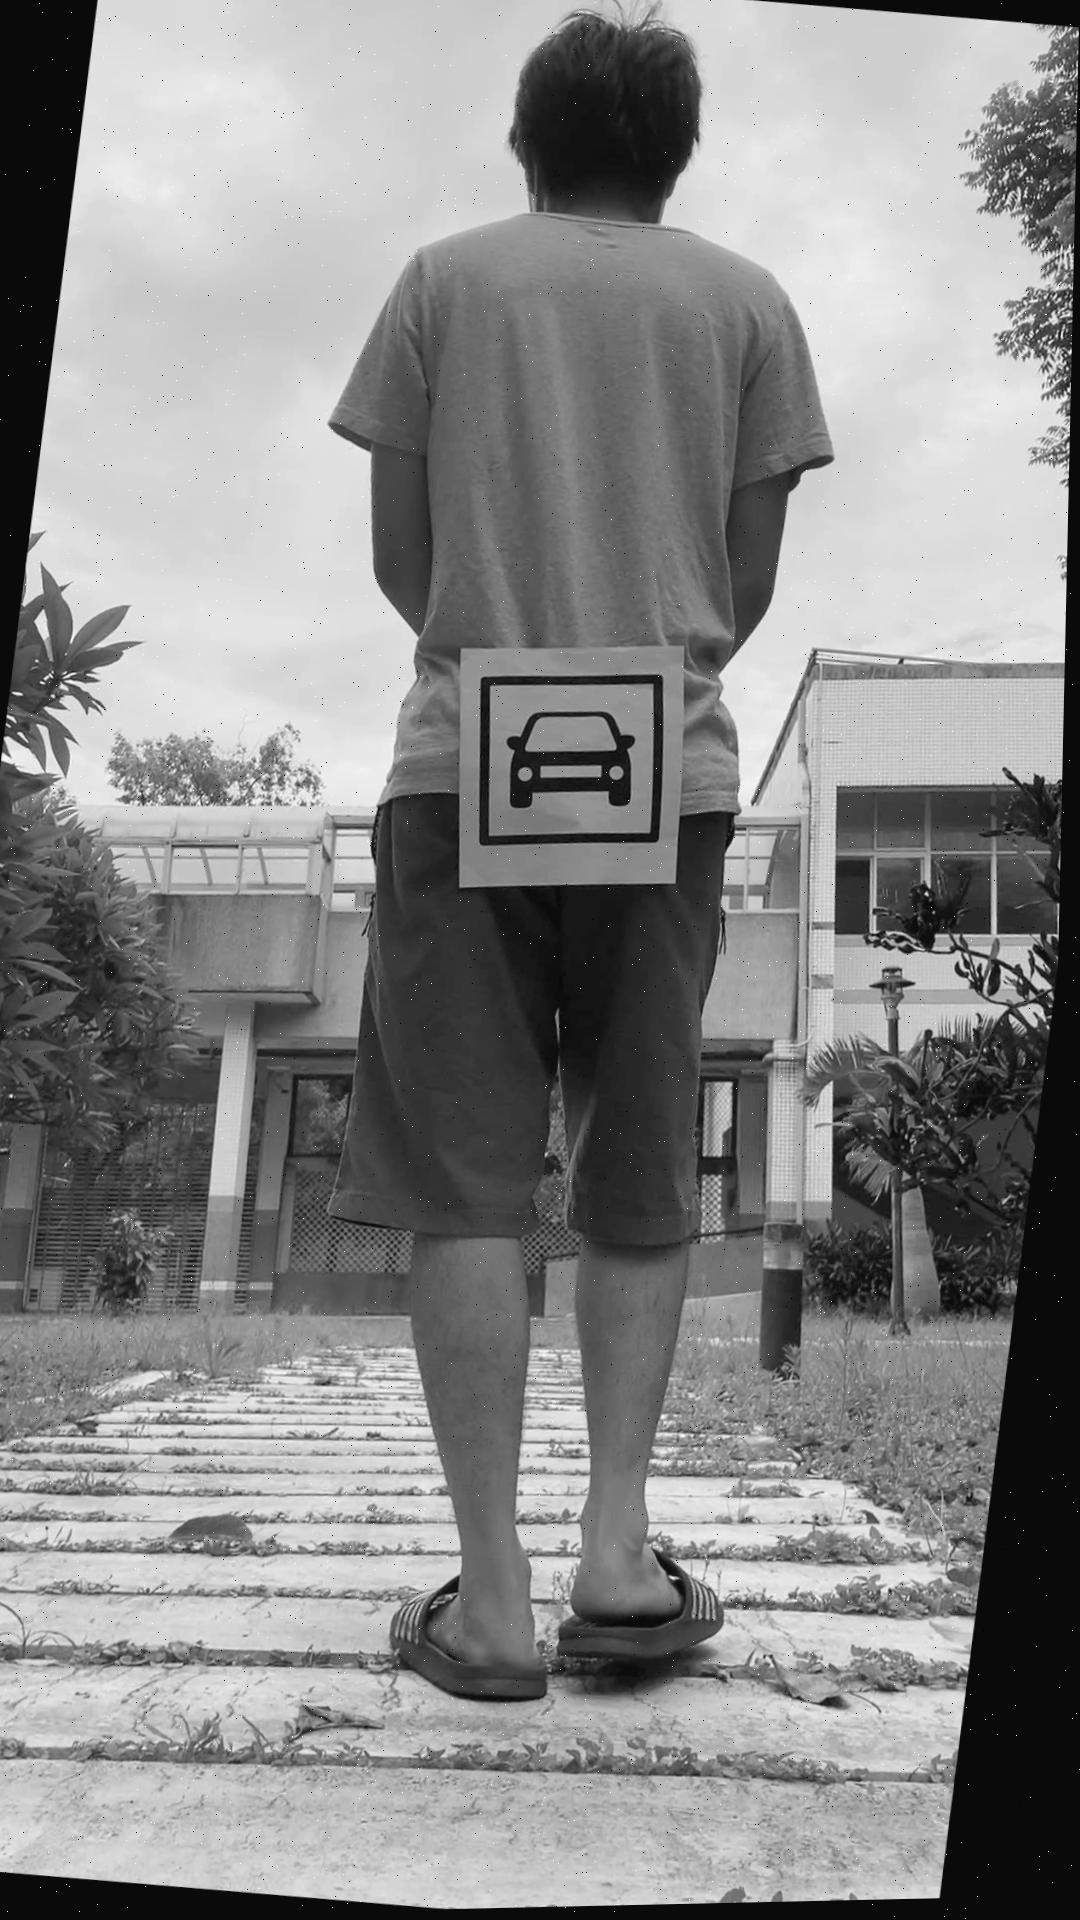car_img: (463, 655, 686, 866)
